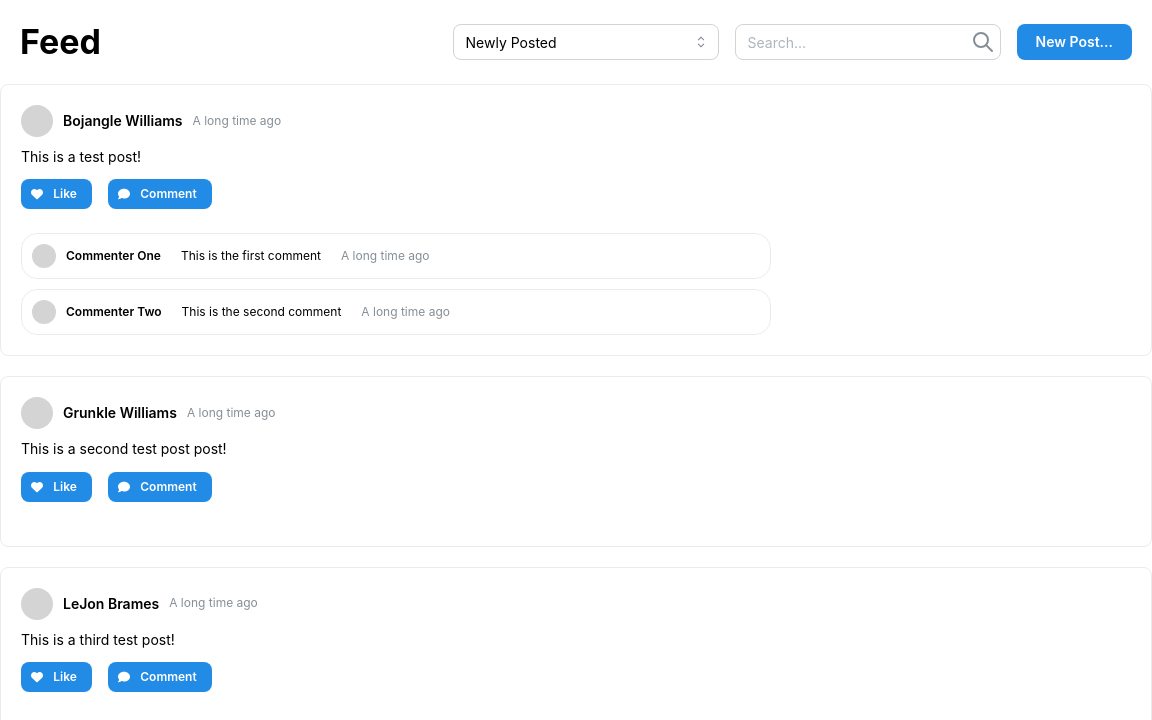
Feed Page › Posts can be liked correctly
Expected: the text "This is a test post!" is shown, [21, 148, 141, 165]
Click the button with test id "like-button" below "This is a test post!" at (56, 194), box [21, 180, 92, 210]
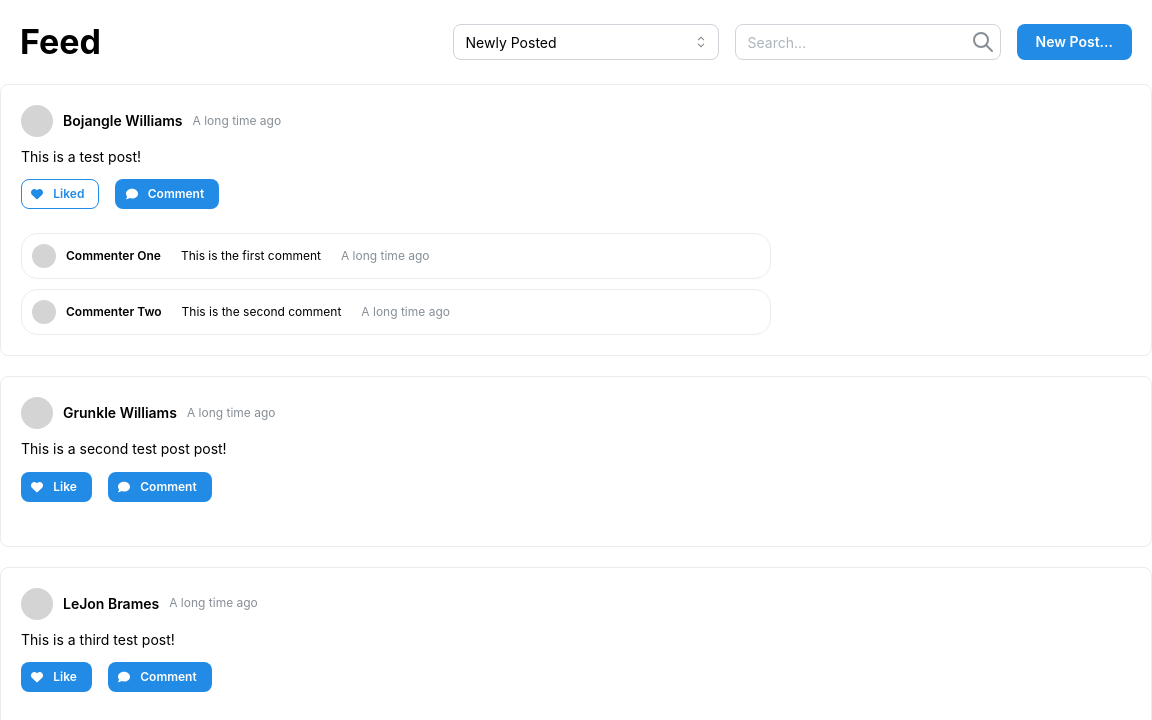
Result: the button "Liked" is shown at [53, 186, 84, 202]
